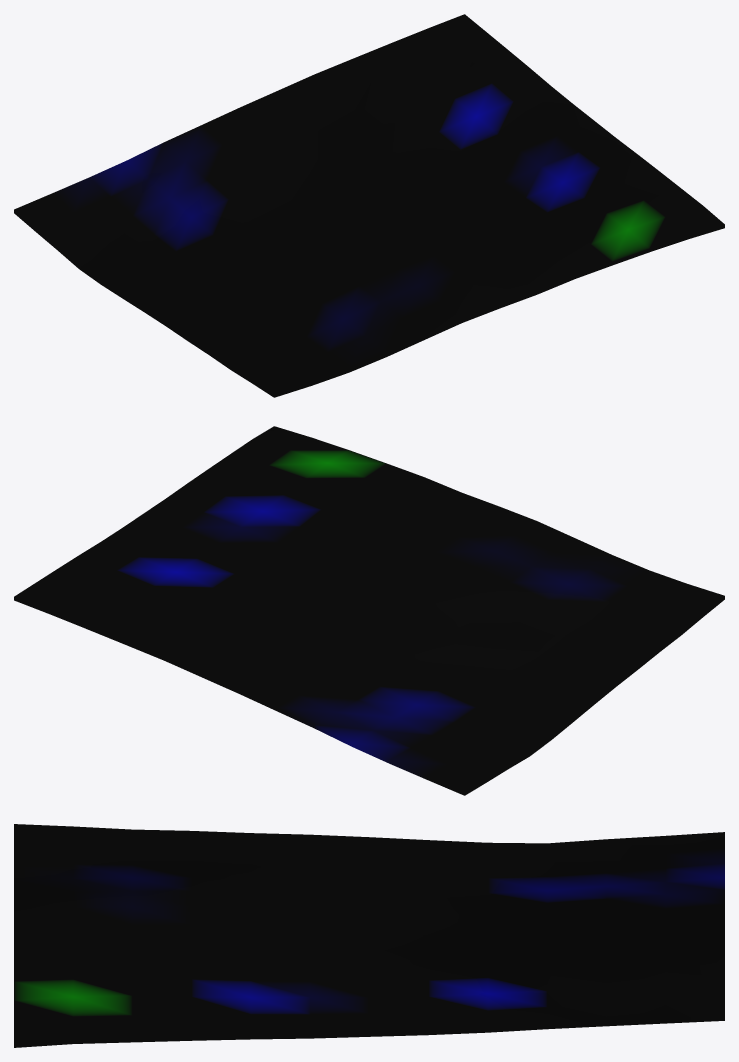
File: coast_12_0.glb
3 views of the same model, one above another, from view 1: azimuth 30°, elevation 25°; view 2: azimuth 150°, elevation 25°; view 3: azimuth 270°, elevation 25° (orthographic). The views are drawn at different scales.
Visible parts, largest first — view 1: terrain; view 2: terrain; view 3: terrain.
Part boxes in pixels (box(x1,y1,x2,y2)): terrain: box(14, 14, 724, 397); terrain: box(14, 426, 724, 795); terrain: box(14, 824, 724, 1047).
Bounding box in the file's own units: 192 × 39.65 × 192.
